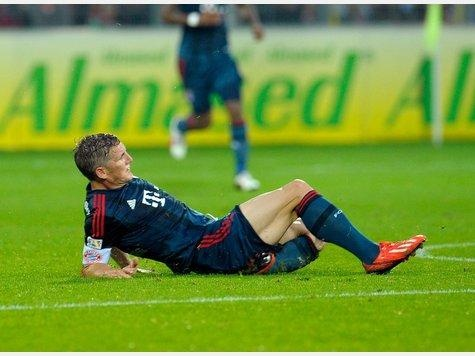falling: (73, 122, 437, 279)
